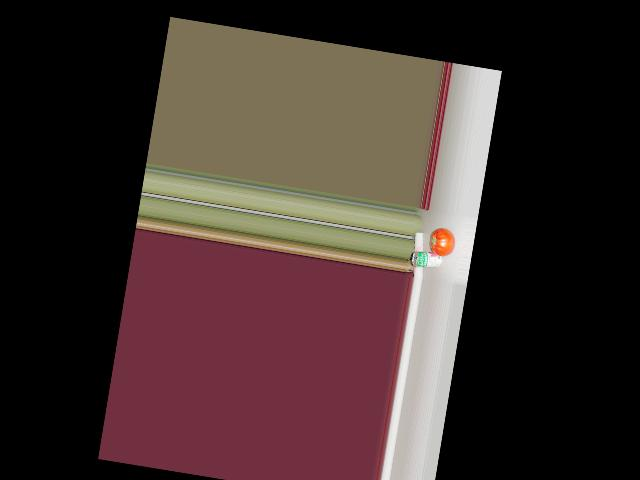tomato: (429, 226, 457, 257)
